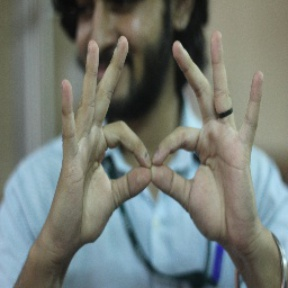B: (85, 114, 221, 201)
